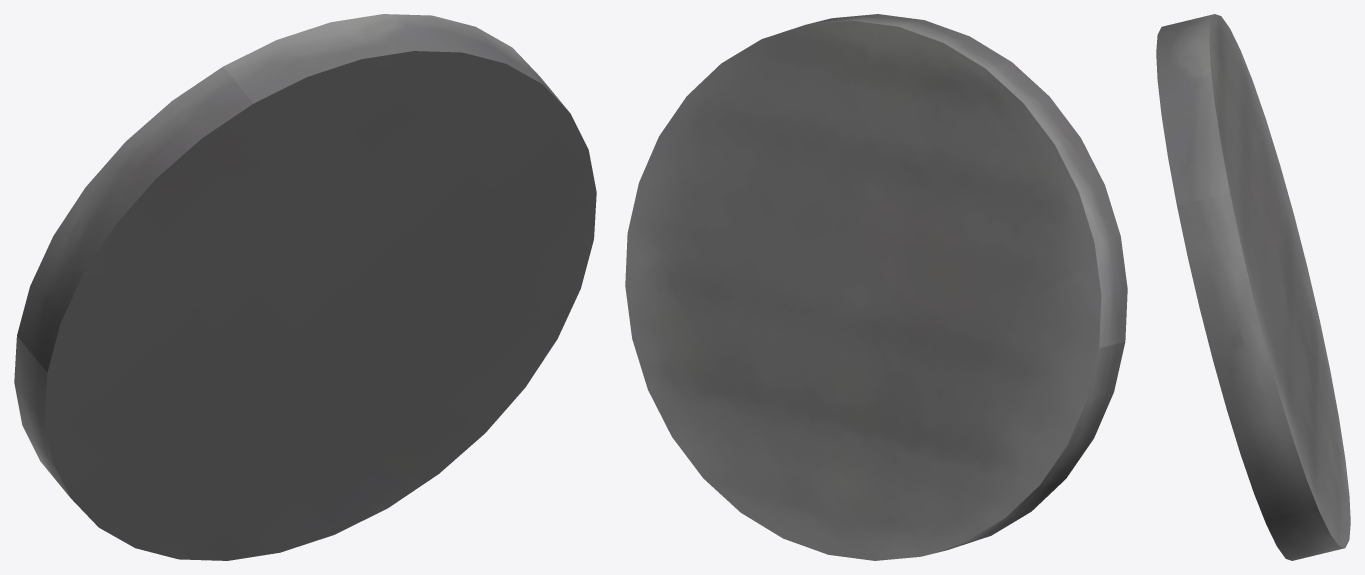
File: cabinet__action_button_guide_1_0.glb
The picture shows the model from 3 angles, left to right: view 1: azimuth 30°, elevation 25°; view 2: azimuth 150°, elevation 25°; view 3: azimuth 270°, elevation 25°; orthographic projection. The views are drawn at different scales.
Parts seen in each view (by area): view 1: geometry_0; view 2: geometry_0; view 3: geometry_0.
Part boxes in pixels (x1,y1,x2,y2): geometry_0: (14,14,596,560); geometry_0: (625,14,1127,560); geometry_0: (1156,14,1350,560).
Bounding box in the file's own units: 0.04 × 0.0397 × 0.0141.
1 material, 1 textured.
